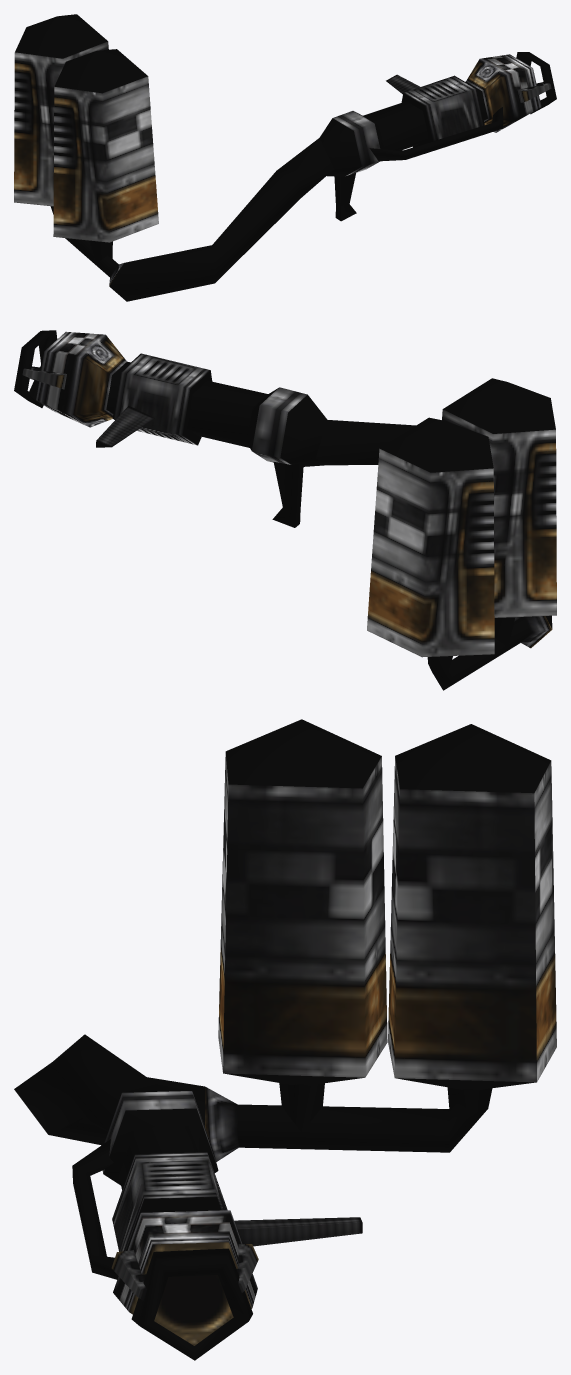
Rendered from p_egon2.glb.
3 views of the same model, one above another, from view 1: azimuth 30°, elevation 25°; view 2: azimuth 150°, elevation 25°; view 3: azimuth 270°, elevation 25° (orthographic). The views are drawn at different scales.
Parts seen in each view (by area): view 1: p_egon2; view 2: p_egon2; view 3: p_egon2.
Boxes of the visible parts, left/top/right/bottom form: p_egon2: left=14, top=14, right=556, bottom=301; p_egon2: left=14, top=330, right=556, bottom=690; p_egon2: left=14, top=719, right=556, bottom=1360.
Size of the model in its own units: 49.24 by 24.08 by 26.79.
Materials: 3 (3 with a texture image).
